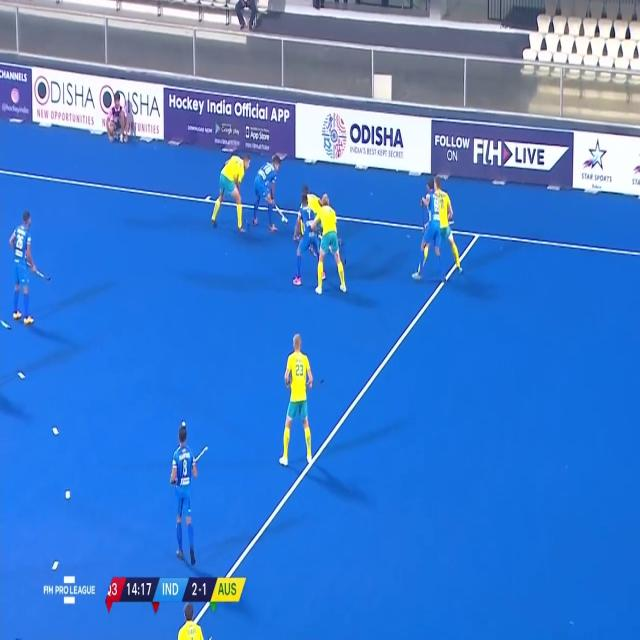ball: (280, 215, 289, 227)
